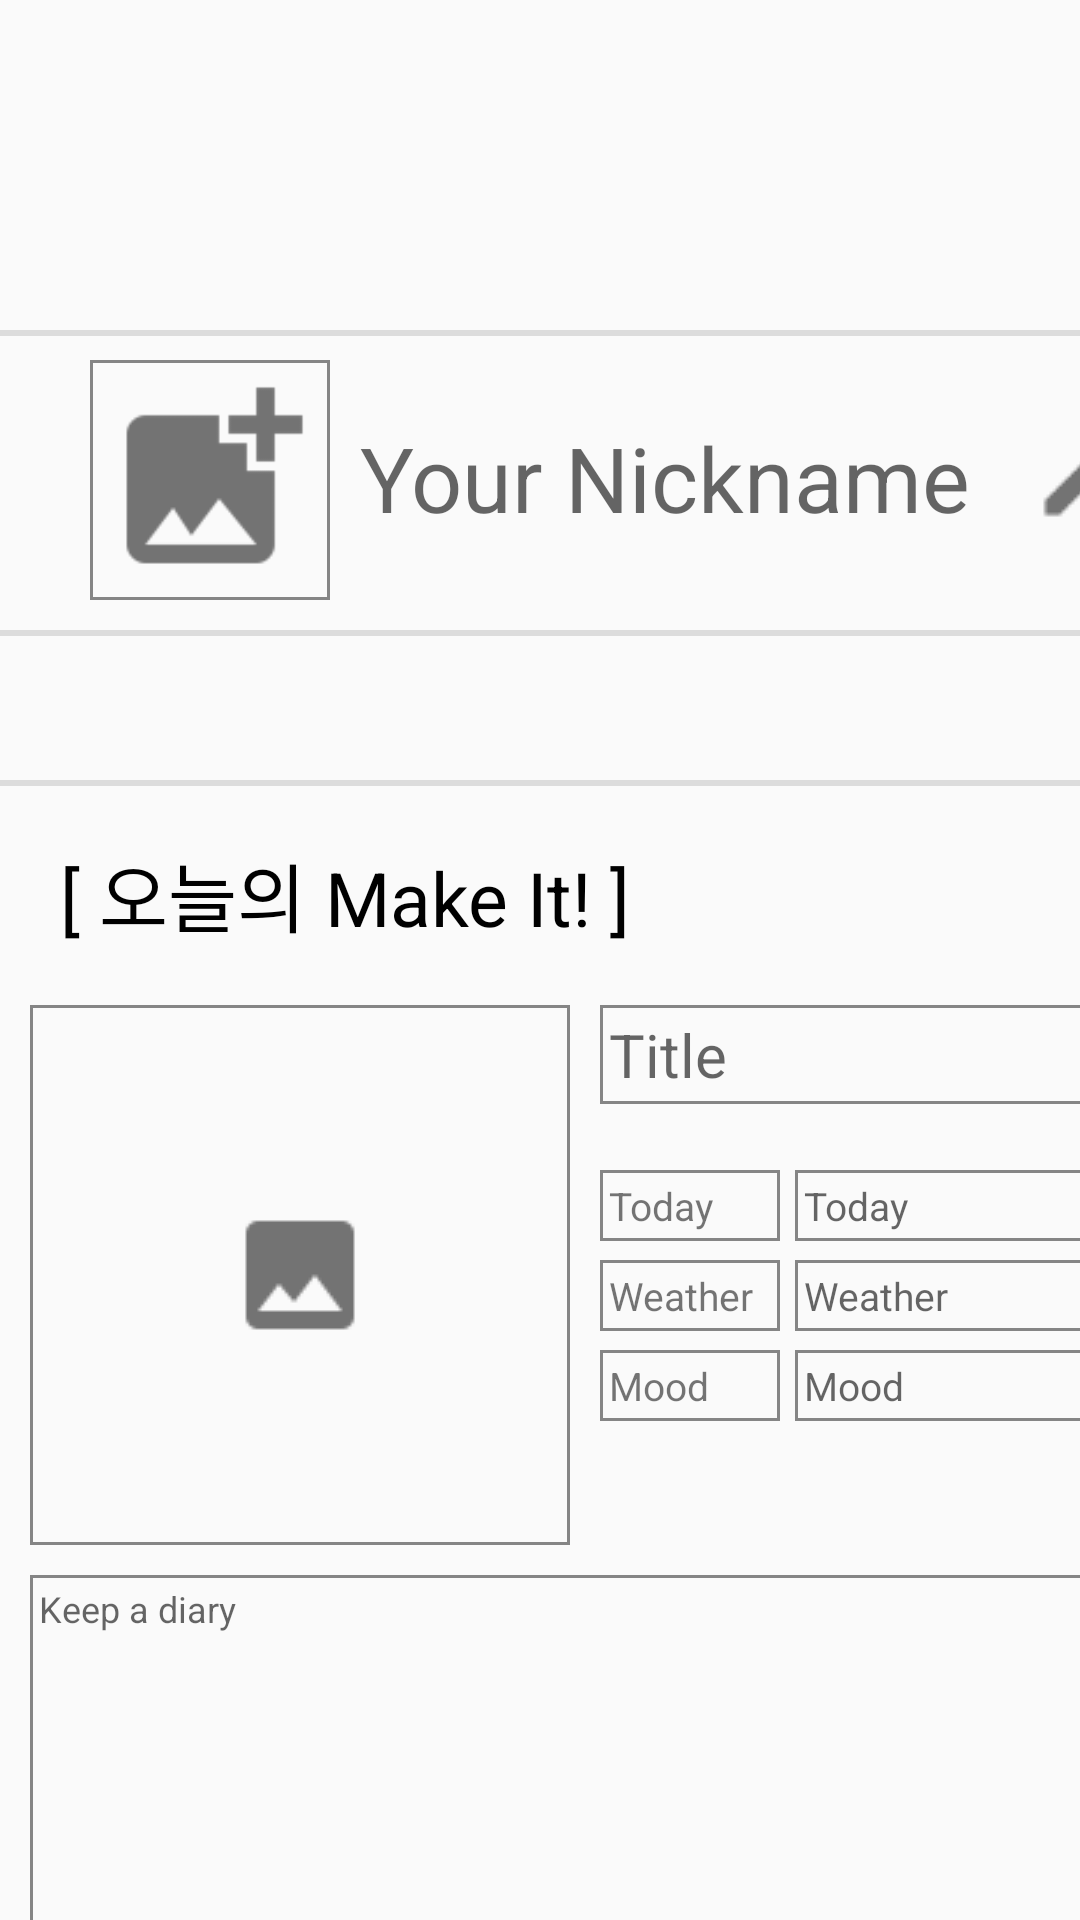

Icon bounding boxes for this 1080w x 1920h phone screenshot, format (x1, y1, x2, y2):
add photo alternate: (90, 360, 330, 600)
